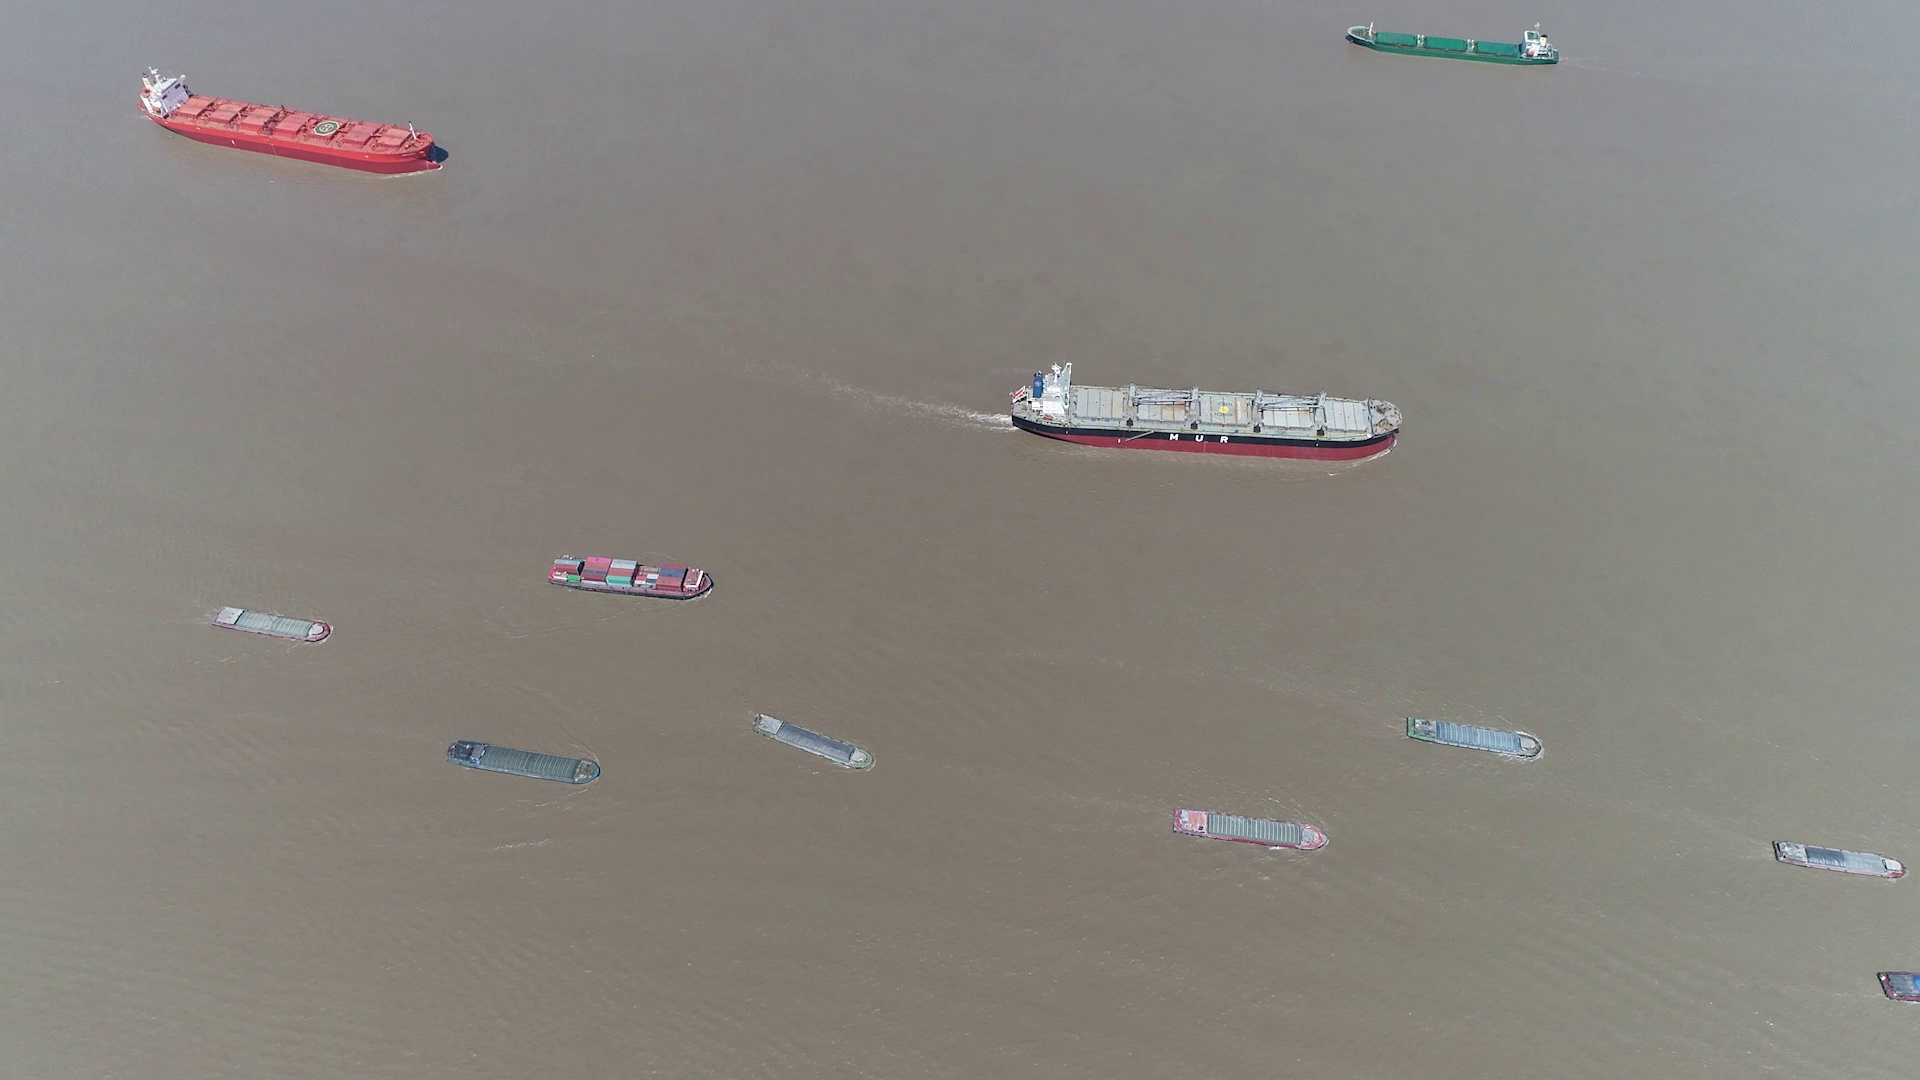ship: (1011, 367, 1400, 462), (142, 66, 444, 171), (1344, 24, 1560, 66), (549, 554, 716, 600), (447, 738, 603, 786), (756, 713, 874, 773), (1174, 808, 1329, 851), (1404, 717, 1545, 760), (1772, 840, 1904, 878), (211, 605, 330, 644), (1876, 969, 1919, 1004)
